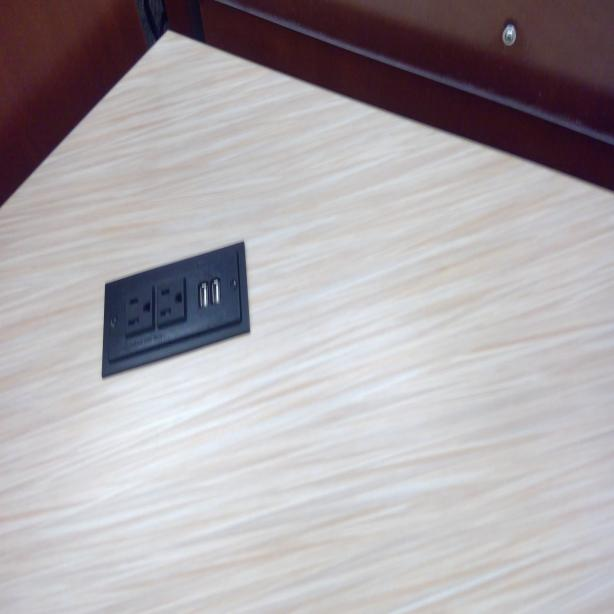typeb: (122, 288, 154, 334), (157, 281, 190, 324)
